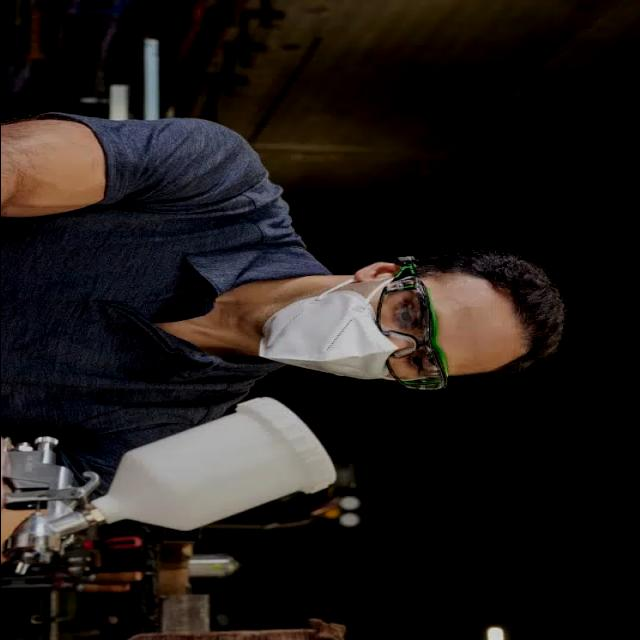Safety Glasses: (372, 260, 448, 394)
